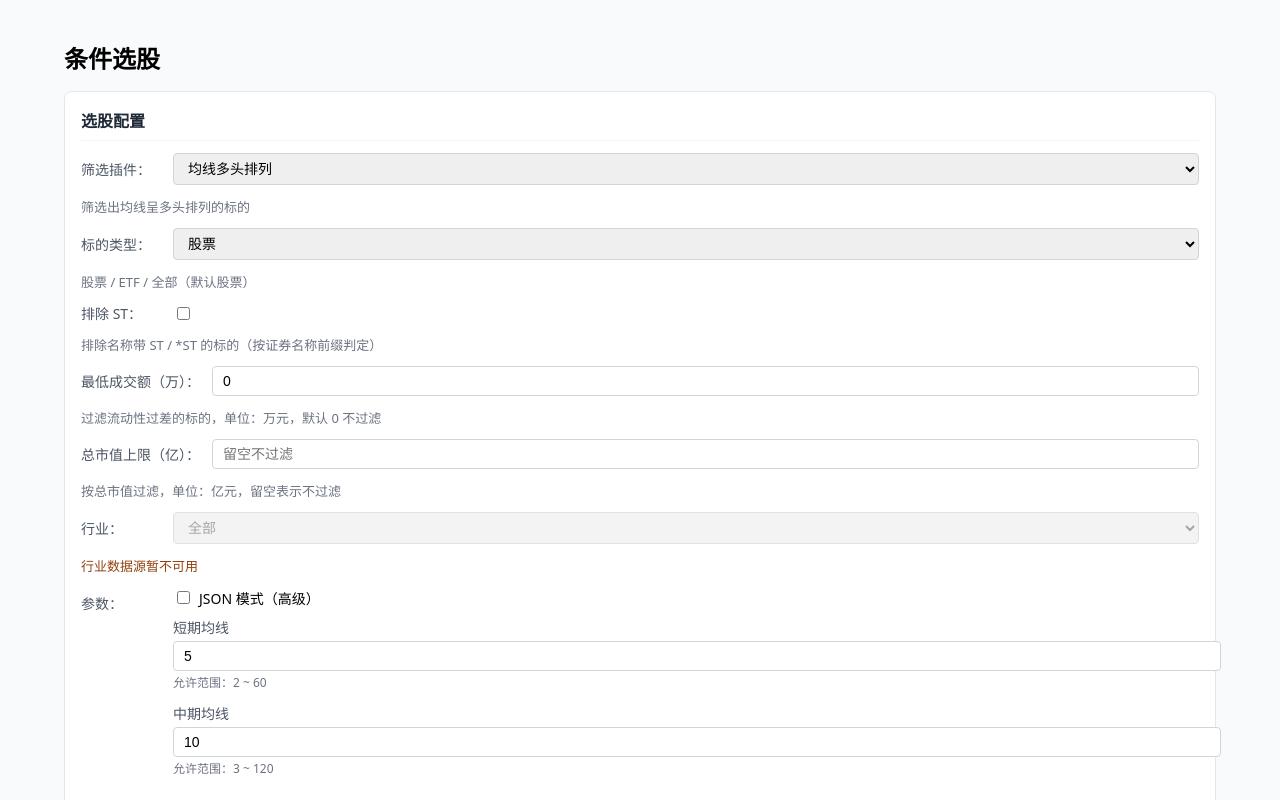
Test: F-S2 · 参数表单由 schema 驱动（不是裸 JSON textarea） › 切换插件 → 参数重置为新插件的默认值
Replace the text in the number field labelled "短期均线" with "30" at (697, 656), box [173,641,1221,671]
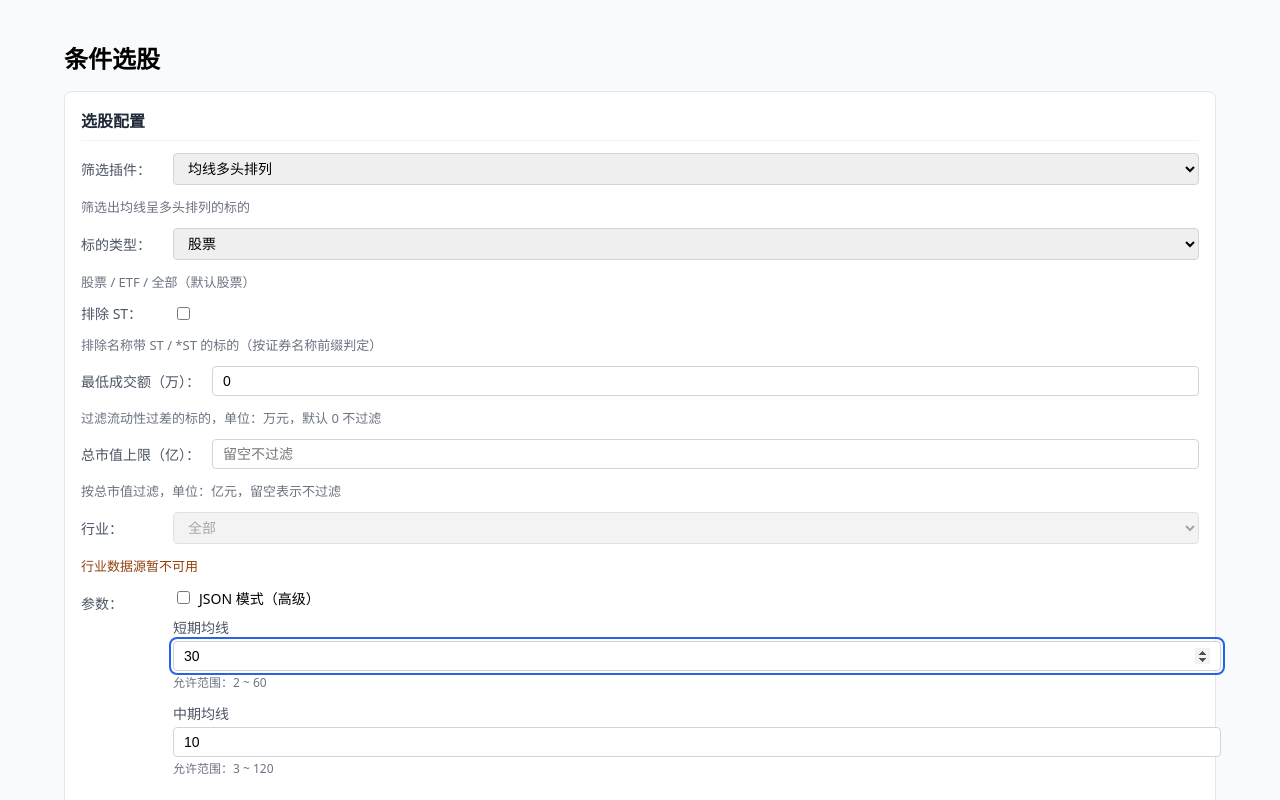
Select "均线多头排列" in the dropdown labelled "筛选插件：" at (686, 169), box [173,153,1199,185]
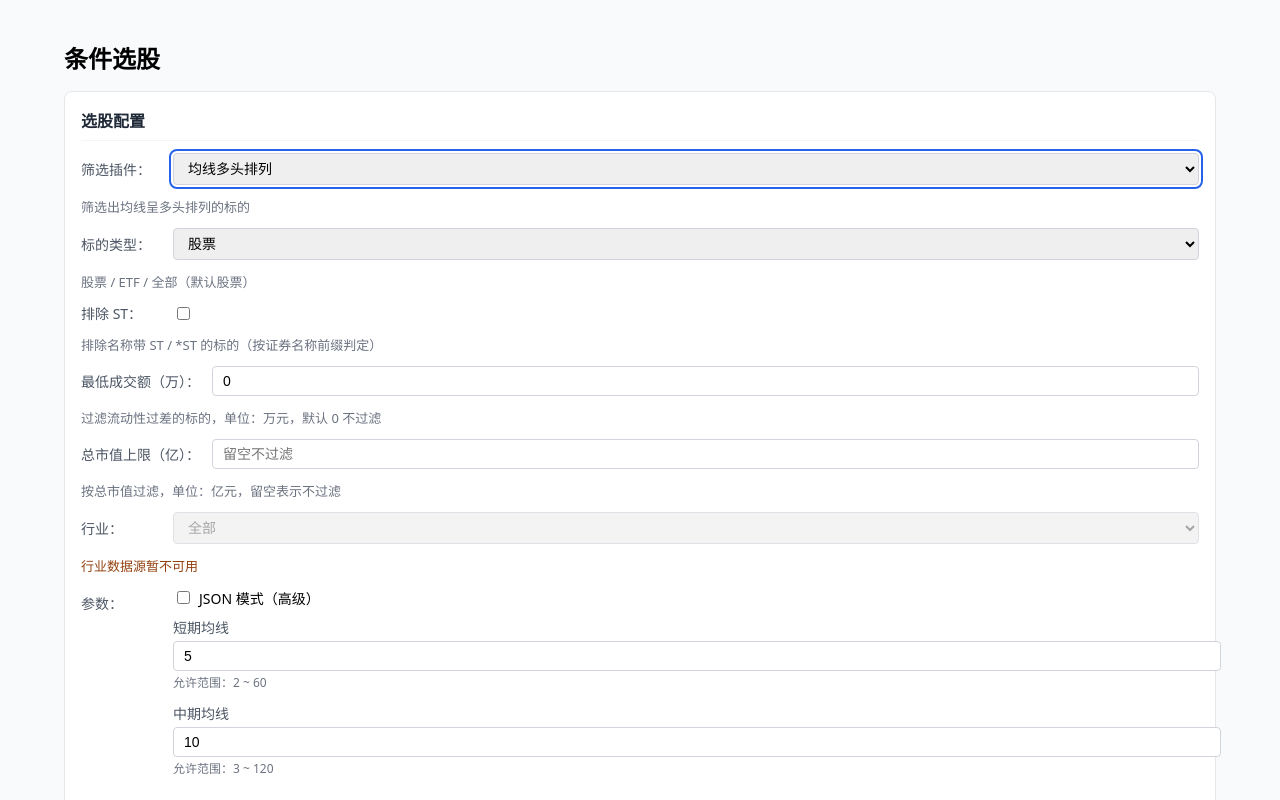
expect the number field labelled "短期均线" holds "5": met, box [173,641,1221,671]
